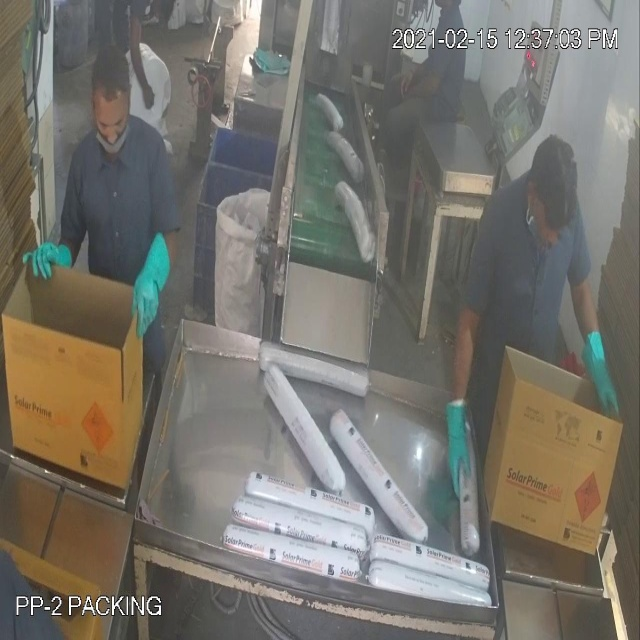Guantes: (571, 316, 630, 440), (433, 381, 484, 510), (122, 230, 176, 340), (14, 226, 83, 290)
Sin_guantes: (121, 12, 160, 116), (388, 52, 443, 100)
